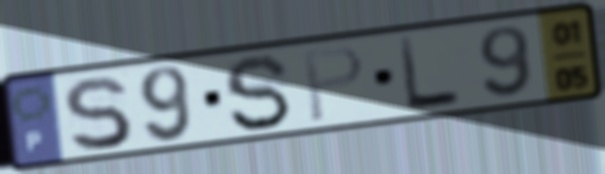9: (138, 62, 199, 146), (479, 22, 536, 102)
L: (395, 33, 465, 114)
P: (300, 43, 367, 126)
S: (59, 73, 136, 155), (220, 52, 296, 134)
